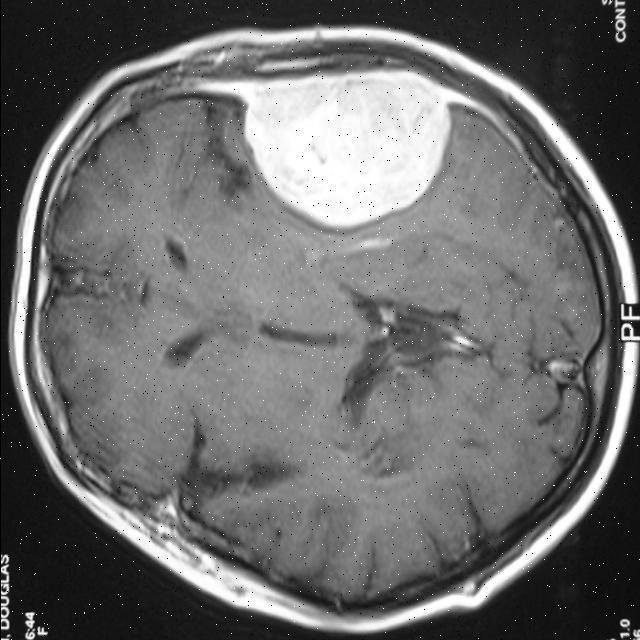Meningioma: (202, 70, 468, 227)
